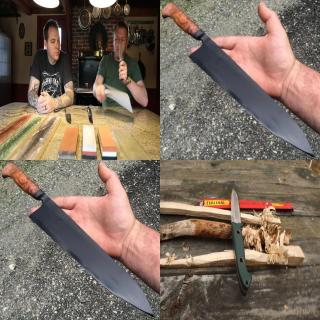knife: (206, 33, 316, 159), (46, 193, 156, 319), (229, 184, 245, 244), (118, 35, 128, 78)
